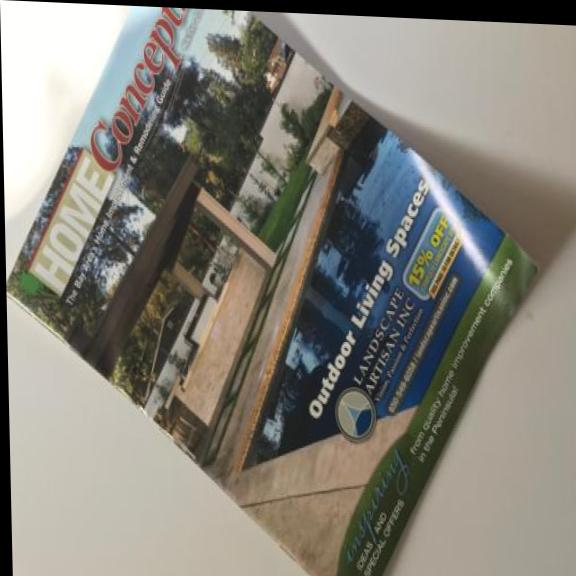Kertas: (2, 0, 562, 576)
